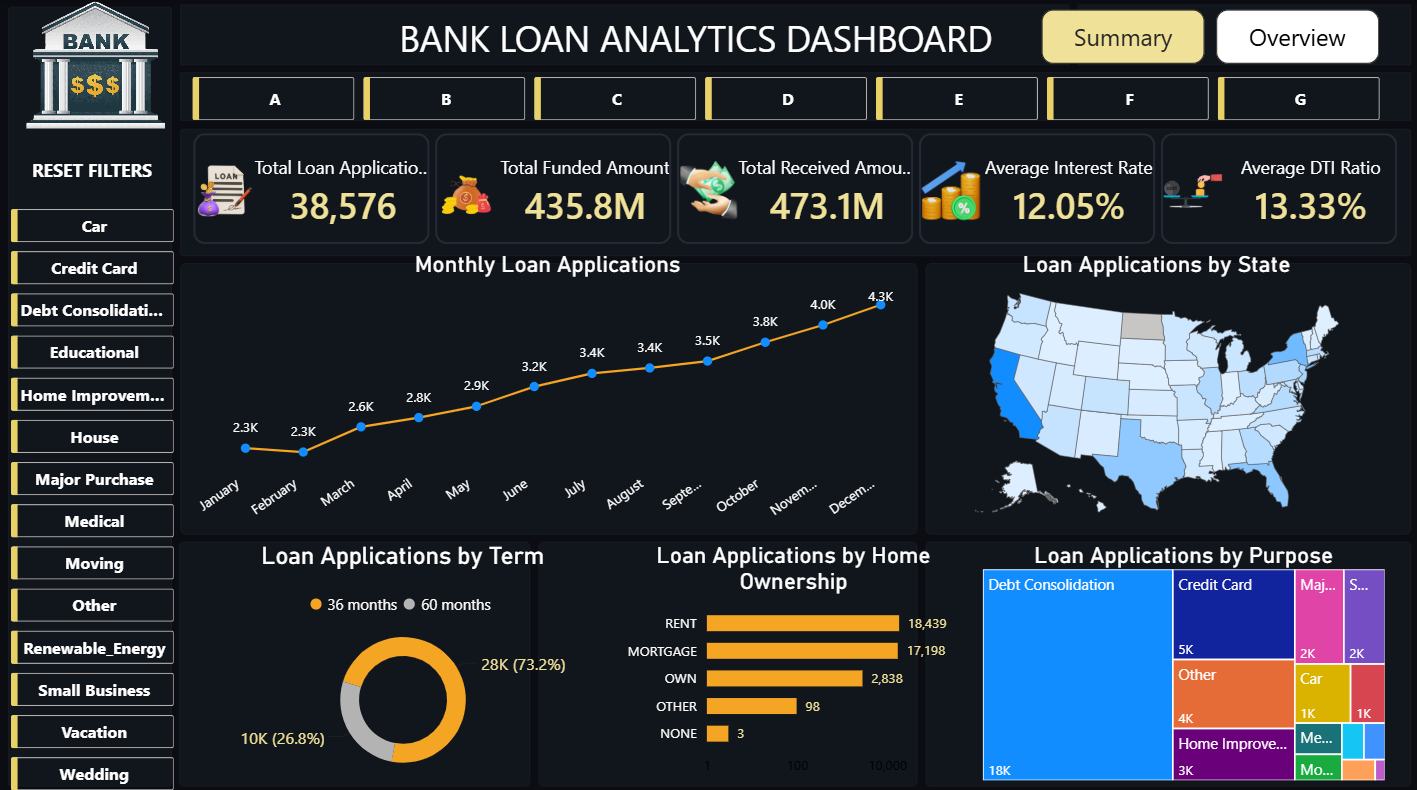

Layout of this report page (visuals, bound fields, positions):
{"tool":"powerbi","page":{"name":"Overview","canvas":[1280,720],"ordinal":1},"visuals":[{"type":"cardVisual","fields":{"Data":["financial_loan.Total Loan Applications","financial_loan.Total Funded Amount","financial_loan.Total Received Amount","financial_loan.Average Interest Rate","financial_loan.Average DTI Ratio"]},"box":[169.6,115.1,1100.3,112.2],"z":0},{"type":"image","box":[7.6,1.5,157.5,115.1],"z":1000},{"type":"advancedSlicerVisual","fields":{"Values":["financial_loan.PURPOSE"]},"box":[6.1,183.2,157.5,536],"z":2000},{"type":"advancedSlicerVisual","fields":{"Values":["financial_loan.GRADE"]},"box":[169.6,65.1,1084.2,50],"z":3000},{"type":"actionButton","box":[7.6,133.3,151.4,39.4],"z":4000},{"type":"textbox","box":[333.1,7.6,590.5,57.5],"z":5000},{"type":"pageNavigator","box":[938.8,9.1,304.4,50],"z":6000},{"type":"lineChart","title":"Monthly Loan Applications","fields":{"Category":["financial_loan.ISSUE_DATE.Variation.Date Hierarchy.Month"],"Y":["financial_loan.Total Loan Applications"]},"box":[169.6,227.1,651.1,251.4],"z":7000},{"type":"donutChart","title":"Loan Applications by Term","fields":{"Category":["financial_loan.TERM"],"Y":["financial_loan.Total Loan Applications"]},"box":[169.6,489.1,384.6,219.6],"z":8000},{"type":"clusteredBarChart","title":"Loan Applications by Home Ownership","fields":{"Category":["financial_loan.HOME_OWNERSHIP"],"Y":["financial_loan.Total Loan Applications"]},"box":[555.7,489.1,321,219.6],"z":9000},{"type":"treemap","title":"Loan Applications by Purpose","fields":{"Group":["financial_loan.PURPOSE"],"Values":["financial_loan.Total Loan Applications"]},"box":[881.3,489.1,372.5,219.6],"z":10000},{"type":"shapeMap","title":"Loan Applications by State","fields":{"Category":["financial_loan.ADDRESS_STATE"],"Value":["financial_loan.Total Loan Applications"]},"box":[832.8,227.1,420.9,251.4],"z":11001}]}

Visuals, with their boxes in screenshot pixels (x1, y1, x2, y2), scaled from the page's 1280x720 canvas onto the 1417x790 screenshot:
cardVisual - financial_loan.Total Loan Applications x financial_loan.Total Funded Amount: 188:126:1406:249
image: 8:2:183:128
advancedSlicerVisual - financial_loan.PURPOSE: 7:201:181:789
advancedSlicerVisual - financial_loan.GRADE: 188:71:1388:126
actionButton: 8:146:176:189
textbox: 369:8:1022:71
pageNavigator: 1039:10:1376:65
"Monthly Loan Applications" lineChart: 188:249:909:525
"Loan Applications by Term" donutChart: 188:537:614:778
"Loan Applications by Home Ownership" clusteredBarChart: 615:537:971:778
"Loan Applications by Purpose" treemap: 976:537:1388:778
"Loan Applications by State" shapeMap: 922:249:1388:525
